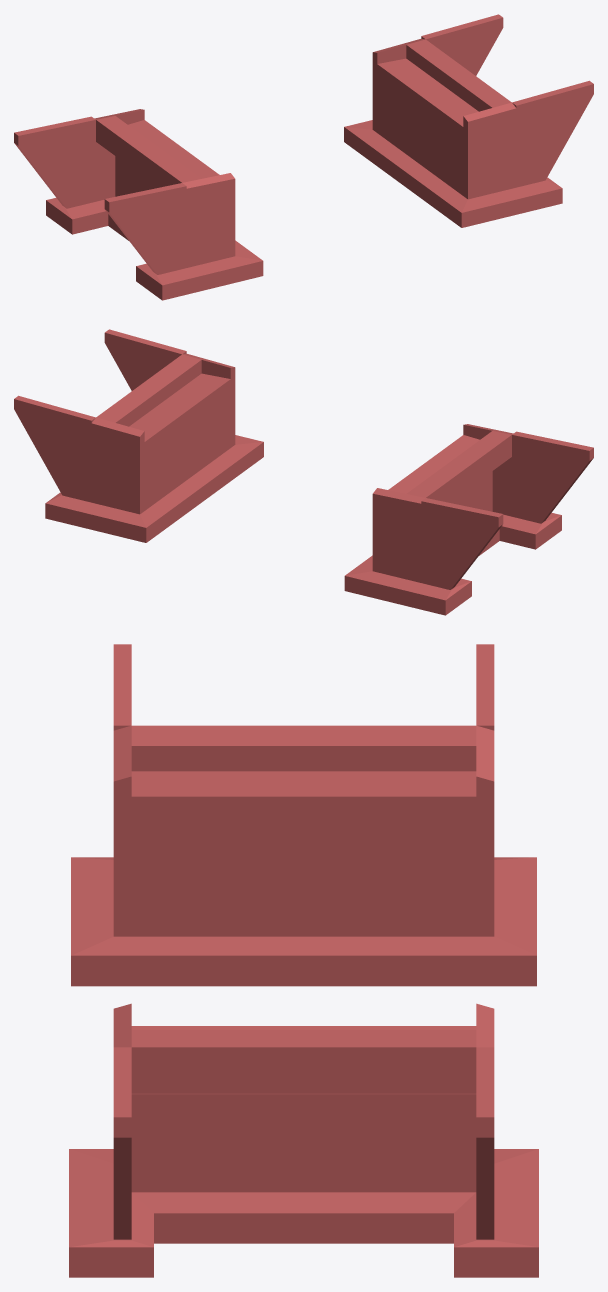
Rendered from bridge9_abutments.obj.
The picture shows the model from 3 angles, top to bottom: view 1: azimuth 30°, elevation 25°; view 2: azimuth 150°, elevation 25°; view 3: azimuth 270°, elevation 25°; orthographic projection. The views are drawn at different scales.
Parts seen in each view (by area): view 1: mesh_1, mesh_0; view 2: mesh_1, mesh_0; view 3: mesh_0, mesh_1.
Part boxes in pixels (left/top/right/bottom): mesh_1: left=344, top=14, right=593, bottom=227; mesh_0: left=14, top=109, right=263, bottom=300; mesh_1: left=14, top=329, right=263, bottom=542; mesh_0: left=344, top=424, right=593, bottom=615; mesh_0: left=71, top=644, right=536, bottom=986; mesh_1: left=69, top=1003, right=538, bottom=1277.
Bounding box in the file's own units: 50 × 9.95 × 21.
